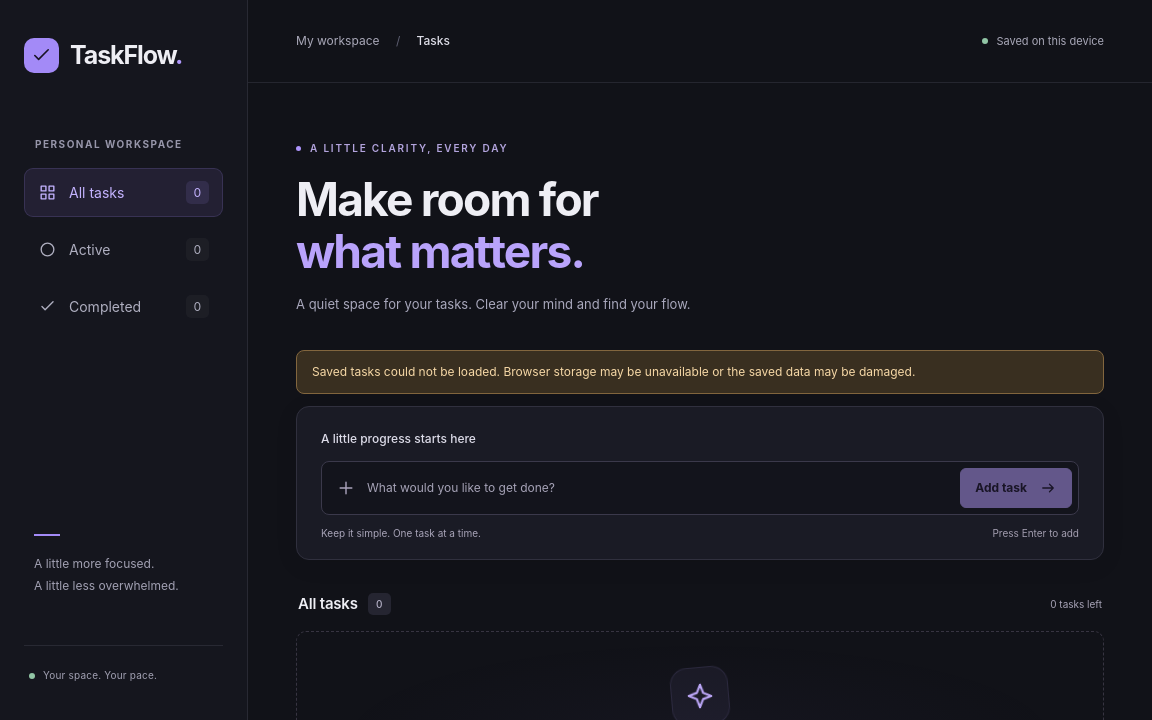
Scenario: TaskFlow user journeys › recovers from malformed JSON without crashing
This screenshot has width=1152, height=720.
Expected: the 2nd message shows "could not be loaded", [312, 364, 915, 379]
Step 1. Type "Fresh task" into the field labelled "A little progress starts here" → [658, 488], box [367, 470, 949, 506]
Then press Enter
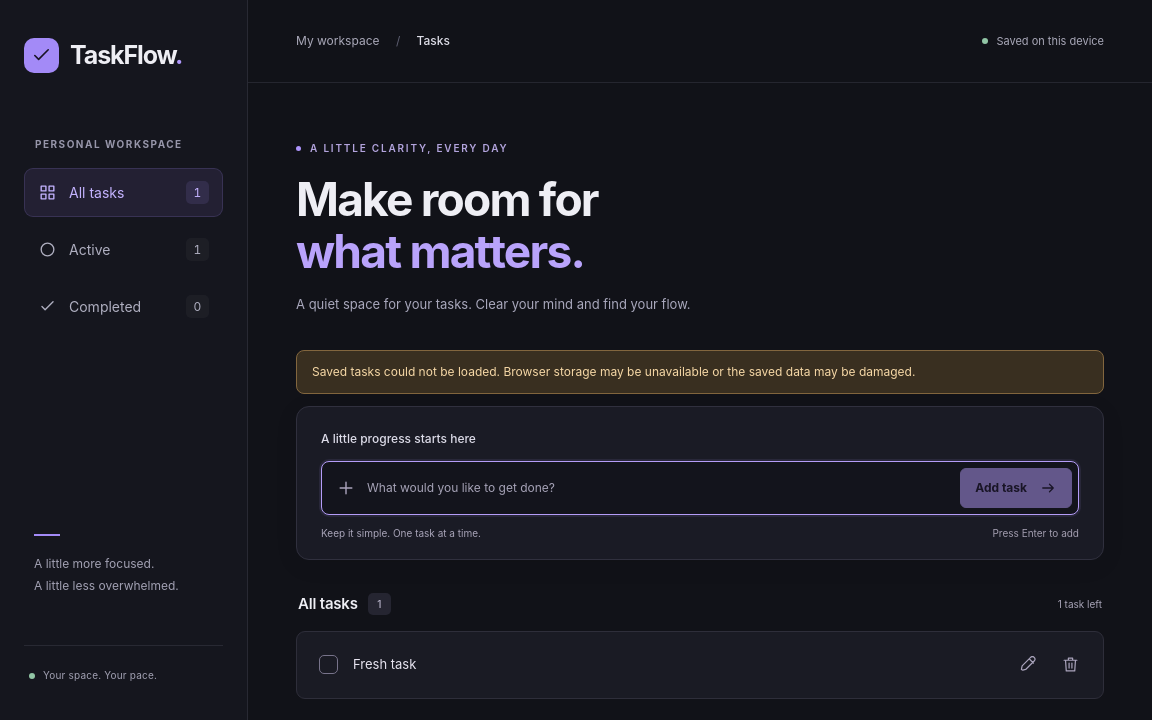
Expected: the text "Fresh task" is shown, [353, 656, 416, 672]
